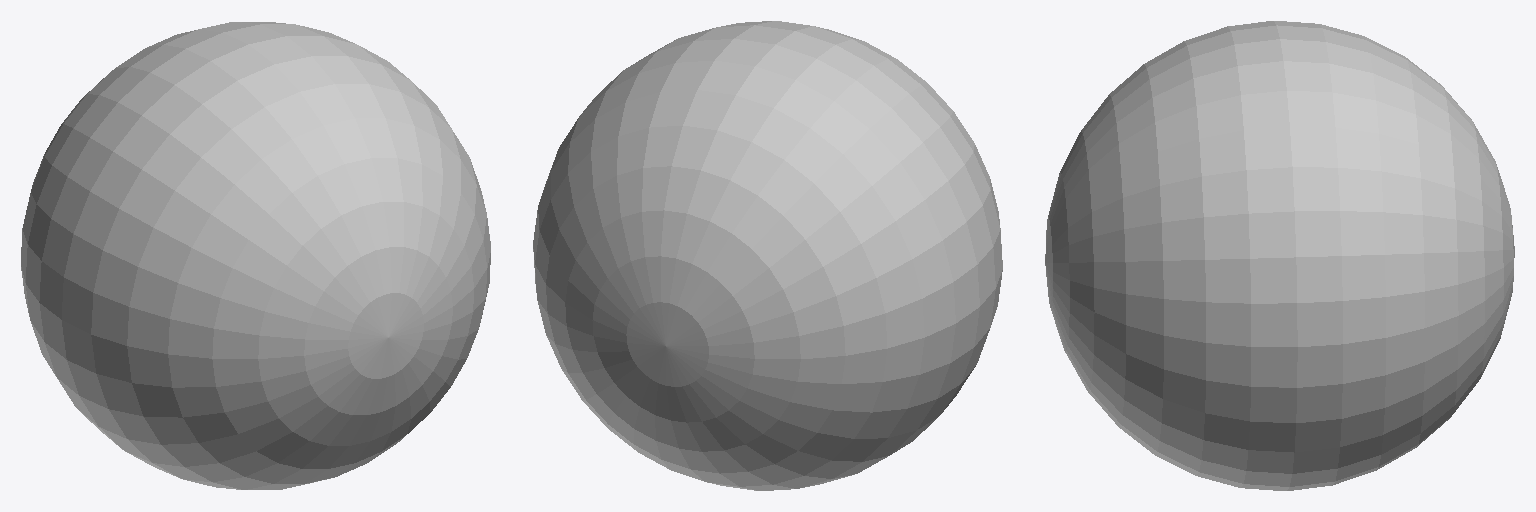
File: centipede.obj
The picture shows the model from 3 angles: view 1: azimuth 30°, elevation 25°; view 2: azimuth 150°, elevation 25°; view 3: azimuth 270°, elevation 25°; orthographic projection.
Bounding box in the file's own units: 0.9982 × 1 × 0.9989.